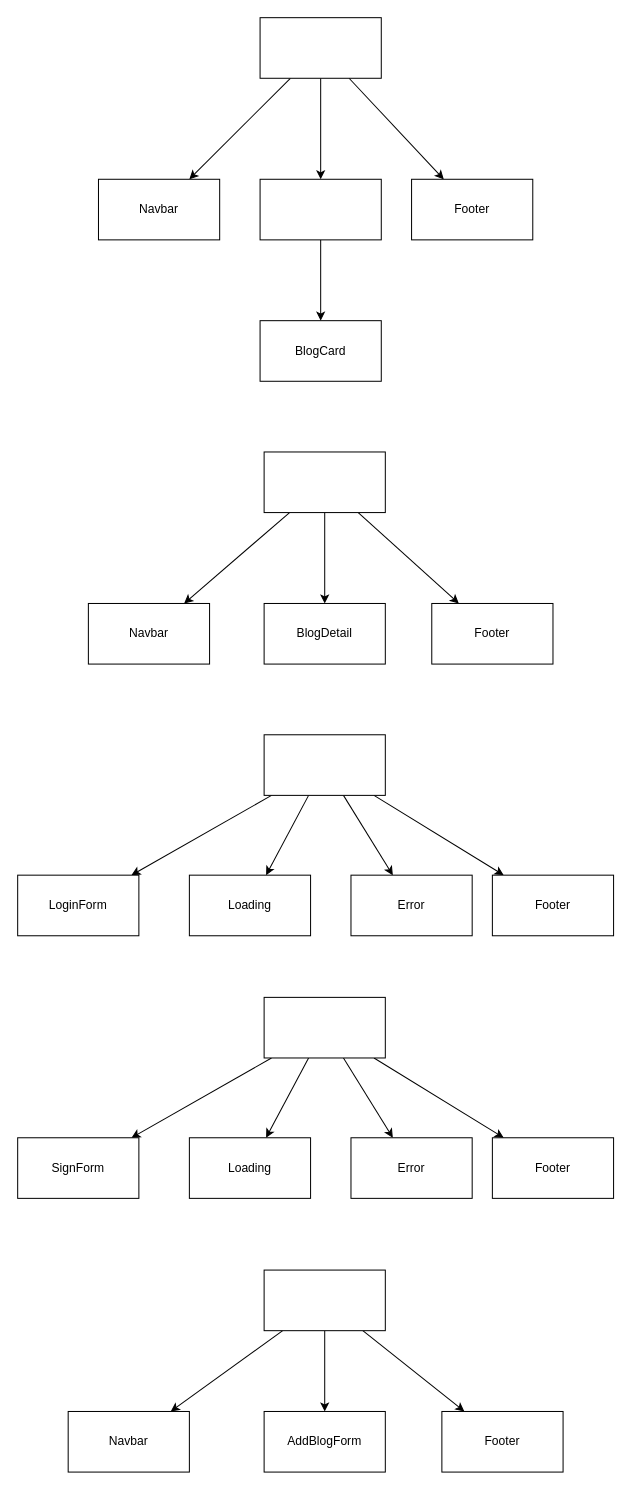
The diagram is 631 pixels wide and 1490 high, and some of its shapes have lost their labels. The shapes that lost their labels are listed below. From the top down, each one's centre as x and y in pixels, then its label:
At point 320,47: "BlogPage".
At point 320,209: "BlogList".
At point 324,482: "BlogDetailPage".
At point 324,764: "LoginPage".
At point 324,1027: "SignupPage".
At point 324,1300: "AddBlogPage".
